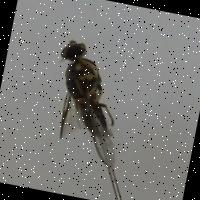Oriental-fruit-fly: (24, 26, 158, 174)
